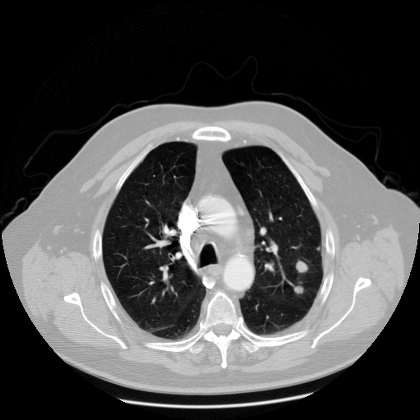nodule: (295, 261, 307, 273)
